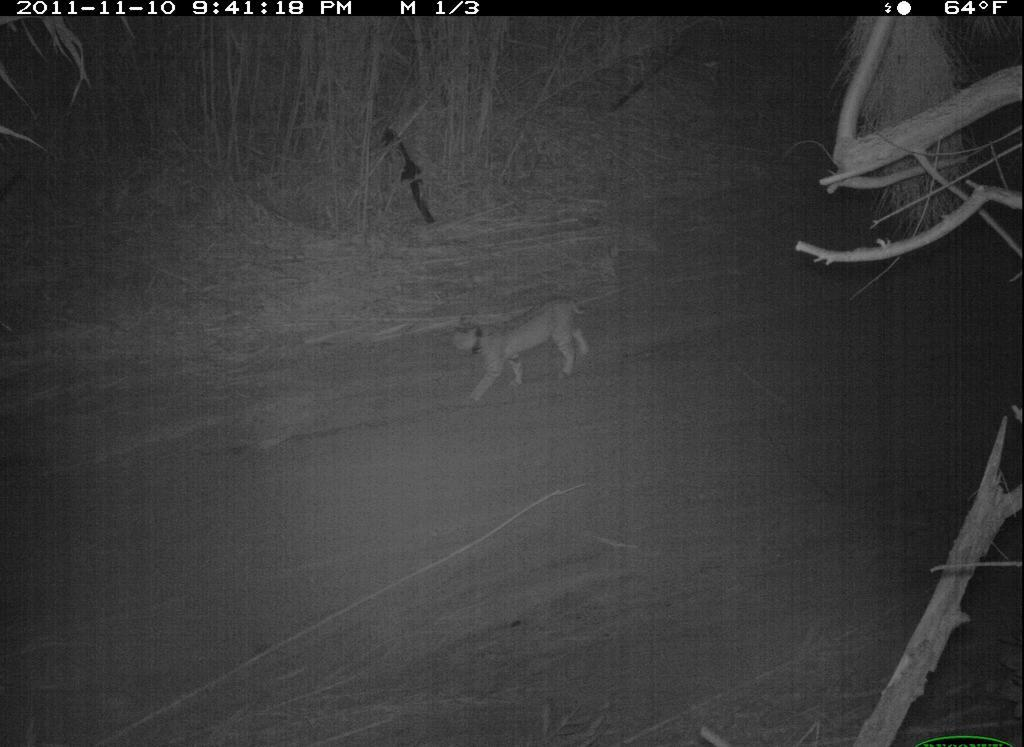bobcat: (441, 292, 602, 414)
